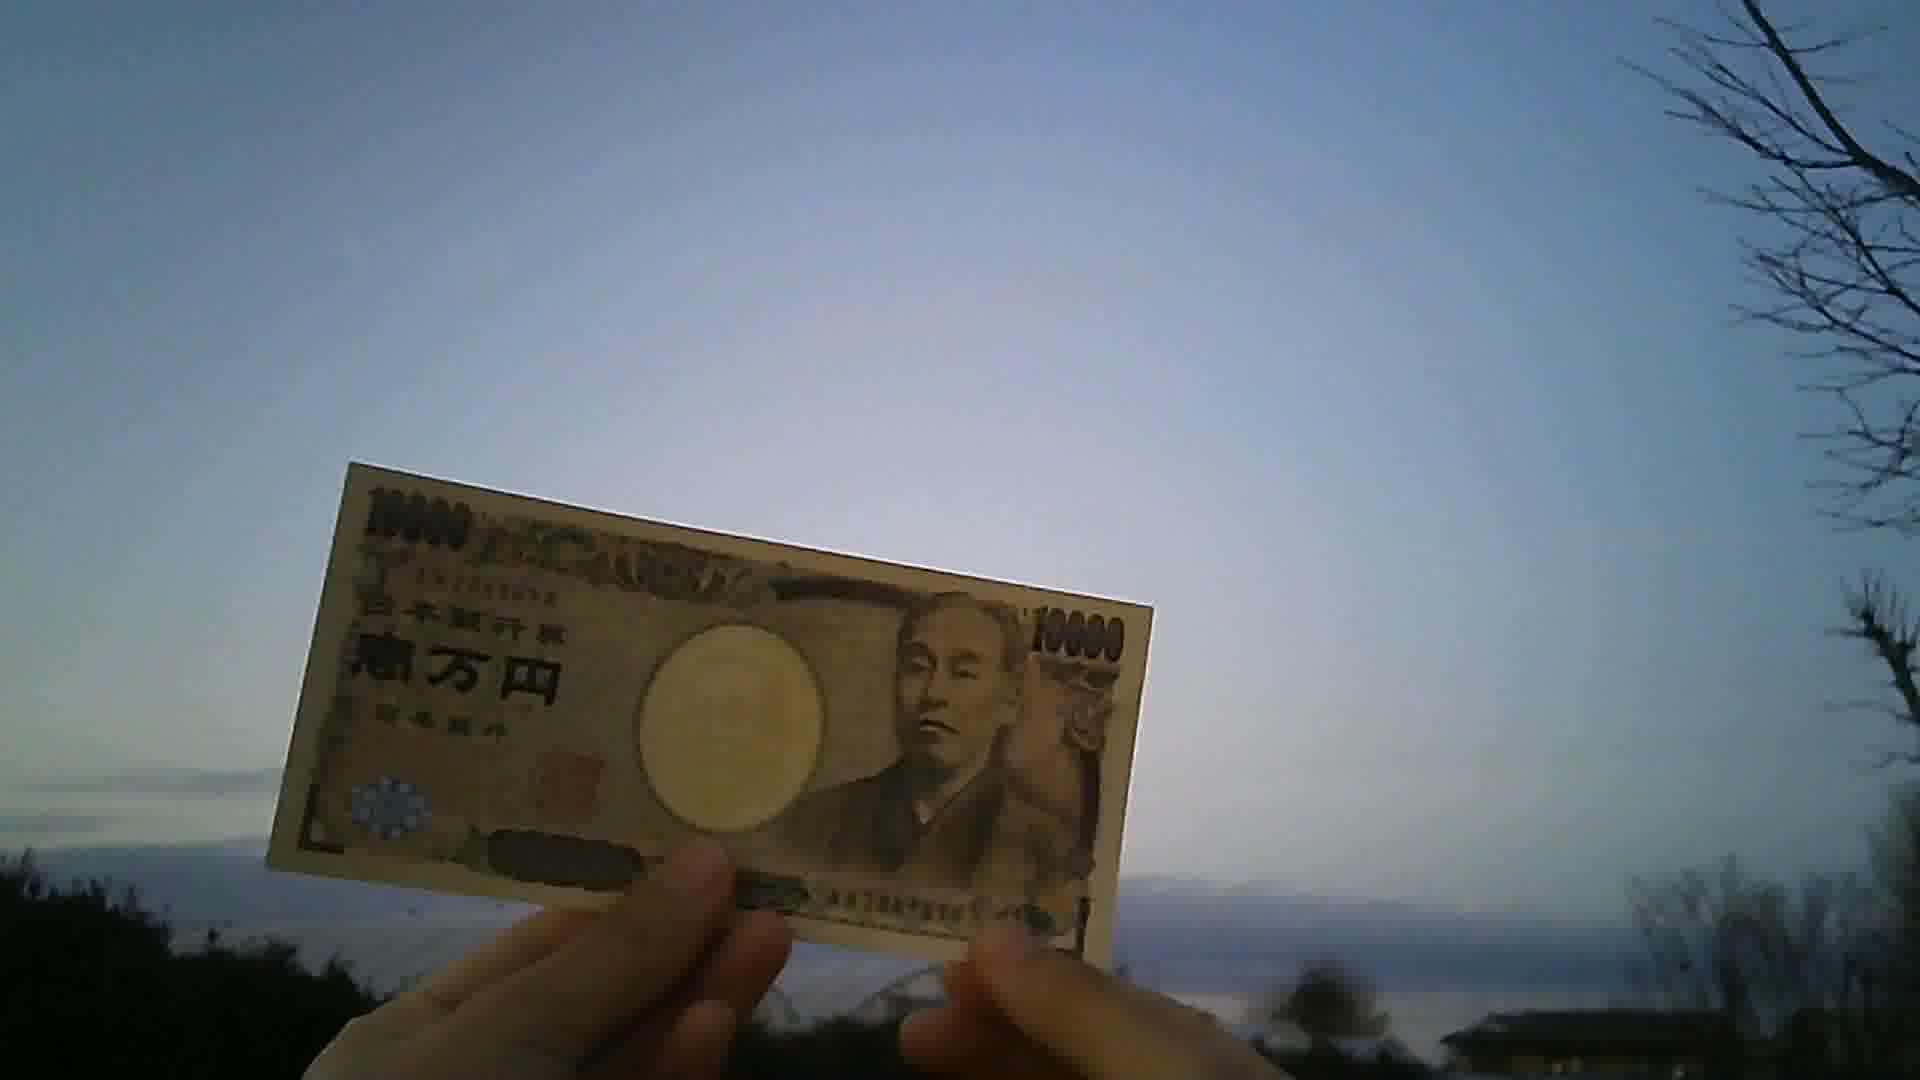10,000 Yen: (243, 463, 1156, 971)
